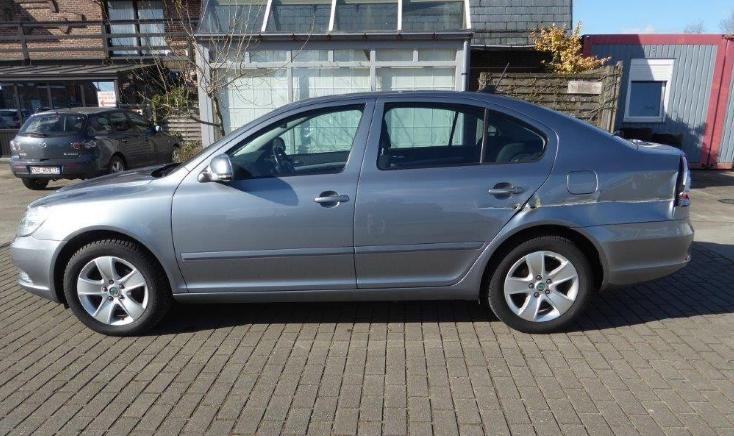Broken part: (506, 190, 539, 222)
Cracked: (676, 159, 691, 205)
Dent: (590, 168, 677, 216), (514, 185, 598, 219), (491, 194, 529, 218)
Scratch: (537, 191, 672, 211), (476, 204, 513, 211)
